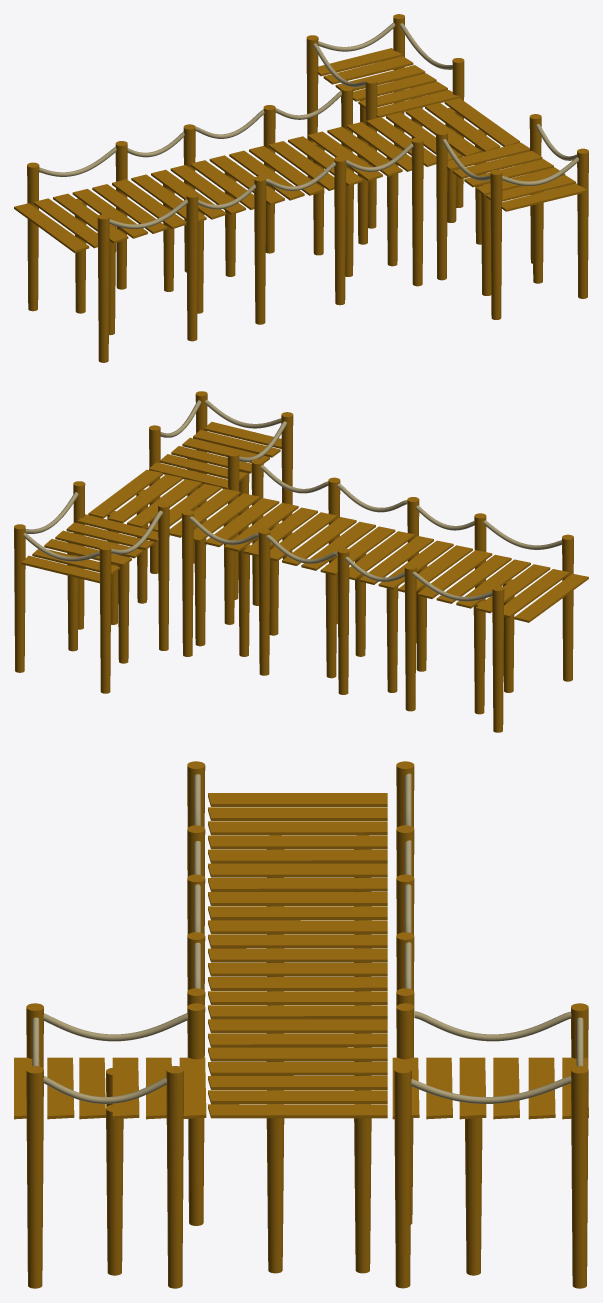
File: iskele.fbx
The picture shows the model from 3 angles, top to bottom: view 1: azimuth 30°, elevation 25°; view 2: azimuth 150°, elevation 25°; view 3: azimuth 270°, elevation 25°; orthographic projection. The views are drawn at different scales.
Visible parts, largest first — view 1: Cube.002, NurbsPath.012; view 2: Cube.002, NurbsPath.012; view 3: Cube.002, NurbsPath.012.
Part boxes in pixels (<box>): Cube.002: <box>14,14,588,362</box>; NurbsPath.012: <box>39,22,578,228</box>; Cube.002: <box>14,391,588,732</box>; NurbsPath.012: <box>23,400,561,601</box>; Cube.002: <box>14,761,588,1288</box>; NurbsPath.012: <box>32,773,583,1103</box>.
Size of the model in its own units: 1328 by 406 by 981.
